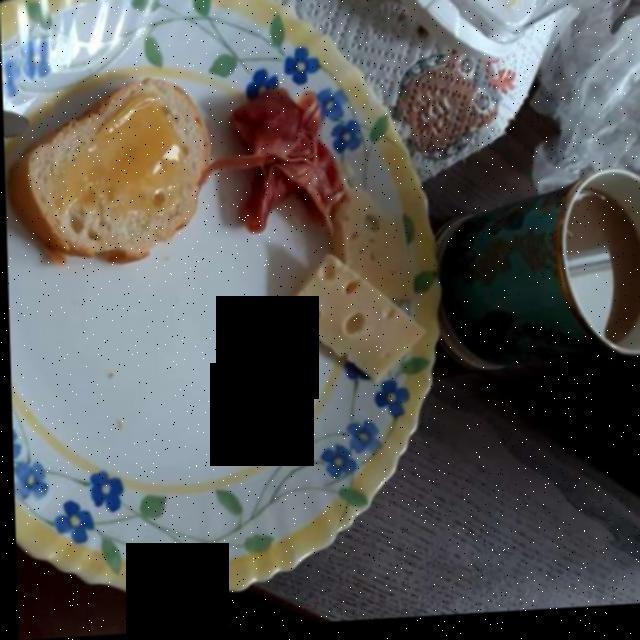bread: (22, 75, 205, 254)
cheese: (270, 260, 416, 392)
coffee: (575, 213, 635, 345)
dried-meat: (232, 85, 355, 233)
honey: (49, 99, 189, 206)
